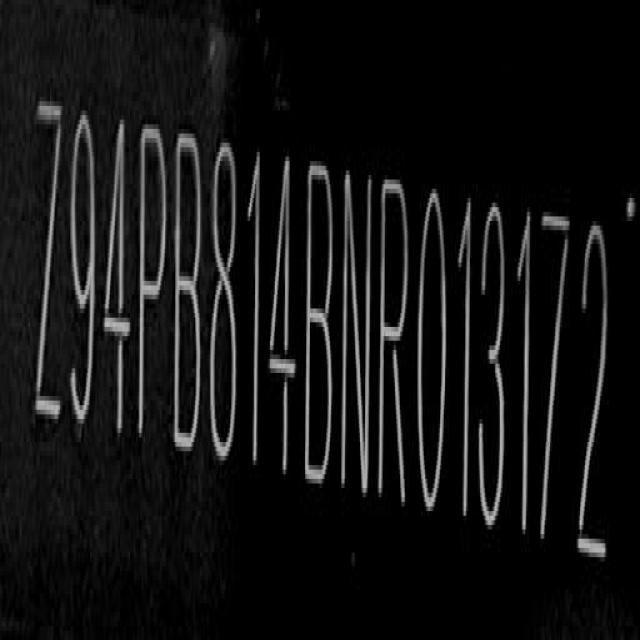0: (417, 182, 450, 524)
1: (518, 200, 536, 543), (457, 191, 475, 529), (248, 145, 265, 480)
2: (579, 208, 616, 566)
3: (480, 196, 508, 536)
4: (103, 110, 134, 449), (271, 145, 301, 482)
7: (539, 202, 572, 560)
8: (210, 132, 240, 464)
9: (70, 105, 98, 449)
B: (305, 157, 339, 493), (174, 126, 206, 464)
N: (343, 161, 378, 500)
P: (134, 118, 167, 460)
R: (380, 172, 414, 513)
Z: (34, 100, 66, 447)
